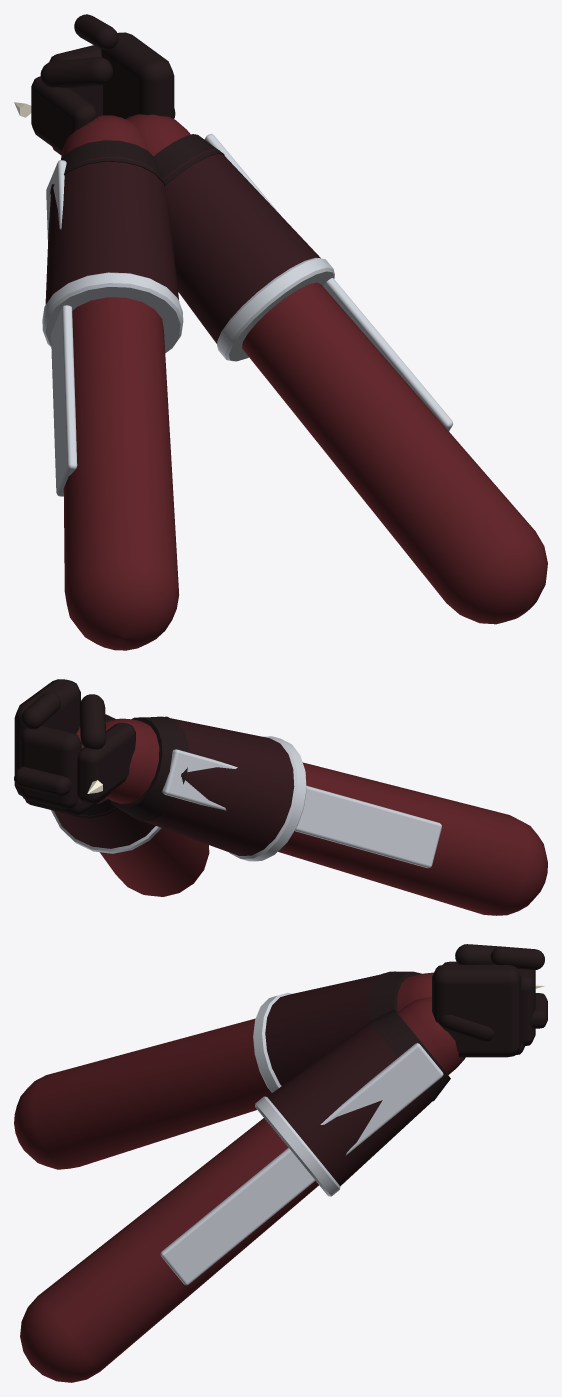
Rendered from snip.glb.
3 renders of one model, top to bottom at view 1: azimuth 30°, elevation 25°; view 2: azimuth 150°, elevation 25°; view 3: azimuth 270°, elevation 25°, orthographic. The views are drawn at different scales.
Parts seen in each view (by area): view 1: forearm_R, forearm_L, bracer_R, bracer_L, palm_R, arm_blade_L, bracer_trim_L, bracer_trim_R, fingers_L, arm_blade_R, cuff_L, thumb_R (+3 smaller); view 2: forearm_L, bracer_L, arm_blade_L, forearm_R, fingers_R, fingers_L, cuff_L, bracer_R, palm_R, bracer_trim_L, thumb_R, knuckles_R (+4 smaller); view 3: forearm_R, forearm_L, arm_blade_R, bracer_R, bracer_L, palm_R, bracer_trim_R, cuff_R, cuff_L, bracer_trim_L, fingers_R, trigger_finger_R (+2 smaller).
Boxes of the visible parts, x1=… form: forearm_R: x1=125, y1=114, x2=547, y2=624; forearm_L: x1=61, y1=115, x2=179, y2=650; bracer_R: x1=163, y1=149, x2=320, y2=343; bracer_L: x1=45, y1=156, x2=179, y2=304; palm_R: x1=100, y1=32, x2=174, y2=118; arm_blade_L: x1=46, y1=160, x2=77, y2=496; bracer_trim_L: x1=42, y1=272, x2=183, y2=352; bracer_trim_R: x1=217, y1=257, x2=334, y2=361; fingers_L: x1=31, y1=76, x2=97, y2=153; arm_blade_R: x1=204, y1=133, x2=453, y2=430; cuff_L: x1=49, y1=140, x2=165, y2=195; thumb_R: x1=40, y1=57, x2=112, y2=88; forearm_L: x1=105, y1=718, x2=547, y2=915; bracer_L: x1=127, y1=716, x2=294, y2=855; arm_blade_L: x1=162, y1=749, x2=441, y2=868; forearm_R: x1=76, y1=727, x2=209, y2=896; fingers_R: x1=19, y1=725, x2=81, y2=809; fingers_L: x1=77, y1=723, x2=135, y2=803; cuff_L: x1=108, y1=716, x2=188, y2=821; bracer_R: x1=54, y1=715, x2=155, y2=848; palm_R: x1=14, y1=679, x2=80, y2=796; bracer_trim_L: x1=229, y1=736, x2=306, y2=861; thumb_R: x1=79, y1=694, x2=106, y2=749; knuckles_R: x1=14, y1=766, x2=72, y2=796; forearm_R: x1=20, y1=997, x2=465, y2=1382; forearm_L: x1=14, y1=972, x2=433, y2=1169; arm_blade_R: x1=160, y1=1043, x2=443, y2=1285; bracer_R: x1=267, y1=1019, x2=436, y2=1186; bracer_L: x1=265, y1=971, x2=395, y2=1085; palm_R: x1=432, y1=964, x2=521, y2=1057; bracer_trim_R: x1=255, y1=1096, x2=340, y2=1196; cuff_R: x1=369, y1=1009, x2=450, y2=1101; cuff_L: x1=368, y1=971, x2=421, y2=1021; bracer_trim_L: x1=253, y1=992, x2=292, y2=1092; fingers_R: x1=517, y1=969, x2=535, y2=1046; trigger_finger_R: x1=490, y1=946, x2=544, y2=970.
Bounding box in the file's own units: 0.4161 × 0.3715 × 0.4788.
